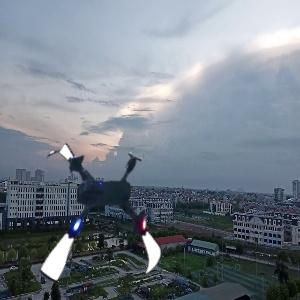drone: (23, 139, 184, 300)
